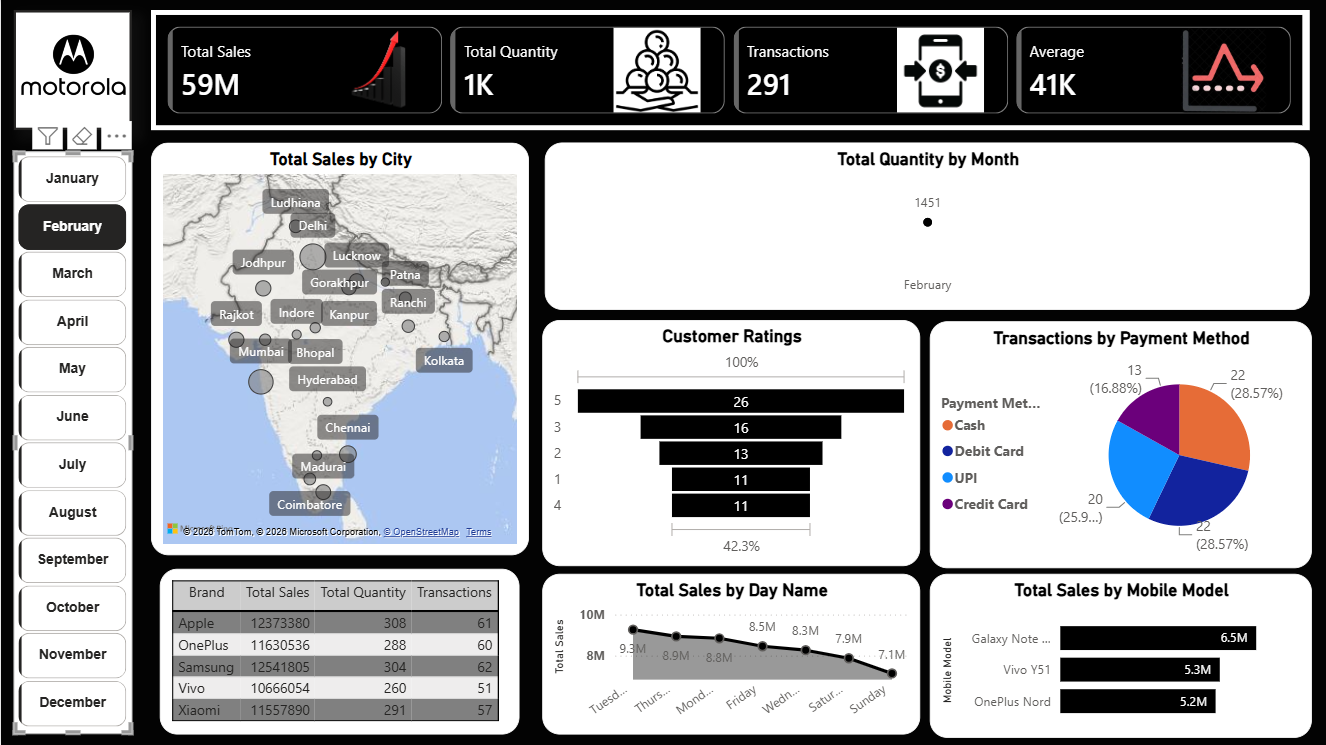

The dashboard page shown, as its layout file describes it:
{"tool":"powerbi","page":{"name":"Page 1","canvas":[1280,720],"ordinal":0},"visuals":[{"type":"shape","box":[12.1,146,114.6,562.2],"z":0},{"type":"image","box":[12.1,9.7,114.6,115.8],"z":1000},{"type":"advancedSlicerVisual","fields":{"Values":["Sales Data.Date.Variation.Date Hierarchy.Month"]},"box":[12.1,146,114.6,562.2],"z":2000},{"type":"cardVisual","fields":{"Data":["Sales Data.Total Sales","Sales Data.Total Quantity","Sales Data.Transactions","Sales Data.Average"]},"box":[145,10,1118.8,116.2],"z":3000},{"type":"map","fields":{"Category":["Sales Data.City"],"Size":["Sales Data.Total Sales"]},"box":[145,137.5,365,398.8],"z":4000},{"type":"lineChart","fields":{"Category":["Sales Data.Date.Variation.Date Hierarchy.Month","Sales Data.Date.Variation.Date Hierarchy.Day"],"Y":["Sales Data.Total Quantity"]},"box":[525,137.5,738.8,161.2],"z":5000},{"type":"clusteredBarChart","fields":{"Category":["Sales Data.Mobile Model"],"Y":["Sales Data.Total Sales"]},"box":[896.2,553.8,368.8,158.8],"z":6000},{"type":"pieChart","fields":{"Category":["Sales Data.Payment Method"],"Y":["Sales Data.Transactions"]},"box":[896.2,310,368.8,238.8],"z":7000},{"type":"funnel","title":"Customer Ratings ","fields":{"Category":["Sales Data.Customer Ratings"],"Y":["CountNonNull(Sales Data.Customer Ratings)"]},"box":[522.5,308.8,365,237.5],"z":8000},{"type":"areaChart","fields":{"Y":["Sales Data.Total Sales"],"Category":["Sales Data.Day Name"]},"box":[522.5,553.8,365,155],"z":9000},{"type":"tableEx","fields":{"Values":["Sales Data.Brand","Sales Data.Total Sales","Sales Data.Total Quantity","Sales Data.Transactions"]},"box":[153.8,548.8,347.5,160],"z":10000}]}

Visuals, with their boxes in screenshot pixels (x1, y1, x2, y2):
shape: [x1=12, y1=149, x2=129, y2=724]
image: [x1=12, y1=10, x2=129, y2=128]
advancedSlicerVisual - Sales Data.Date.Variation.Date Hierarchy.Month: [x1=12, y1=149, x2=129, y2=724]
cardVisual - Sales Data.Total Sales x Sales Data.Total Quantity: [x1=148, y1=10, x2=1291, y2=129]
map - Sales Data.City x Sales Data.Total Sales: [x1=148, y1=140, x2=521, y2=548]
lineChart - Sales Data.Date.Variation.Date Hierarchy.Month x Sales Data.Date.Variation.Date Hierarchy.Day: [x1=536, y1=140, x2=1291, y2=305]
clusteredBarChart - Sales Data.Mobile Model x Sales Data.Total Sales: [x1=916, y1=566, x2=1292, y2=728]
pieChart - Sales Data.Payment Method x Sales Data.Transactions: [x1=916, y1=317, x2=1292, y2=561]
"Customer Ratings " funnel: [x1=534, y1=315, x2=907, y2=558]
areaChart - Sales Data.Total Sales x Sales Data.Day Name: [x1=534, y1=566, x2=907, y2=724]
tableEx - Sales Data.Brand x Sales Data.Total Sales: [x1=157, y1=561, x2=512, y2=724]
